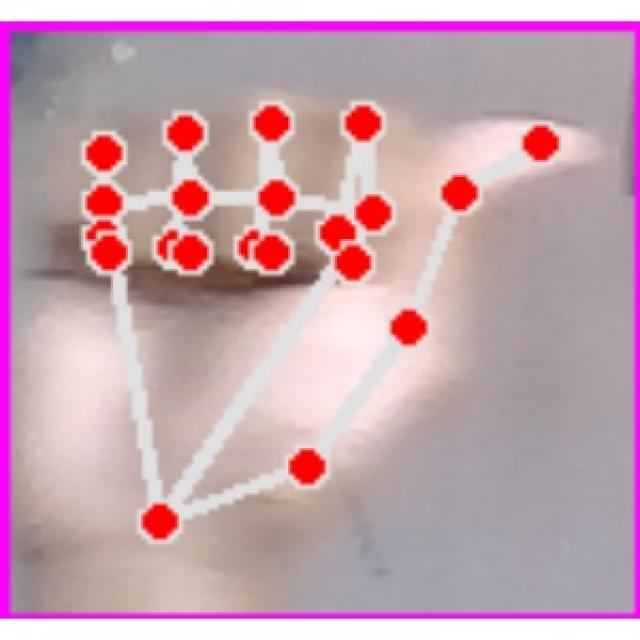A: (22, 69, 610, 580)
